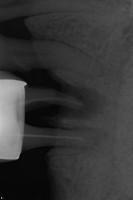Dental Caries: (24, 72, 109, 147)
